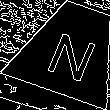N_N: (40, 19, 101, 80)
